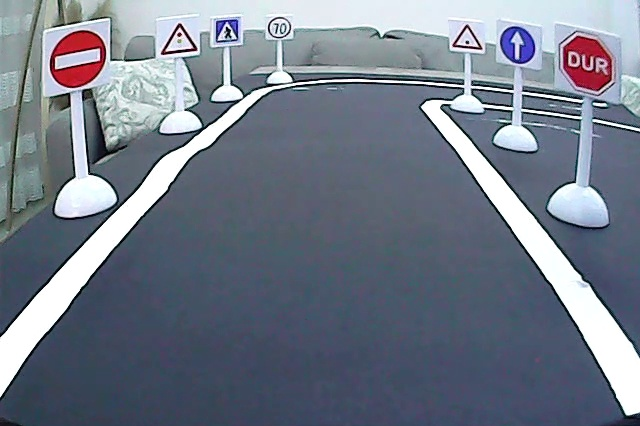do not enter: (46, 24, 109, 90)
green light: (451, 22, 484, 52)
pedestrian crossing: (215, 18, 241, 45)
red light: (158, 19, 200, 57)
speed limit 70: (266, 15, 294, 40)
stop sign: (555, 29, 616, 96)
